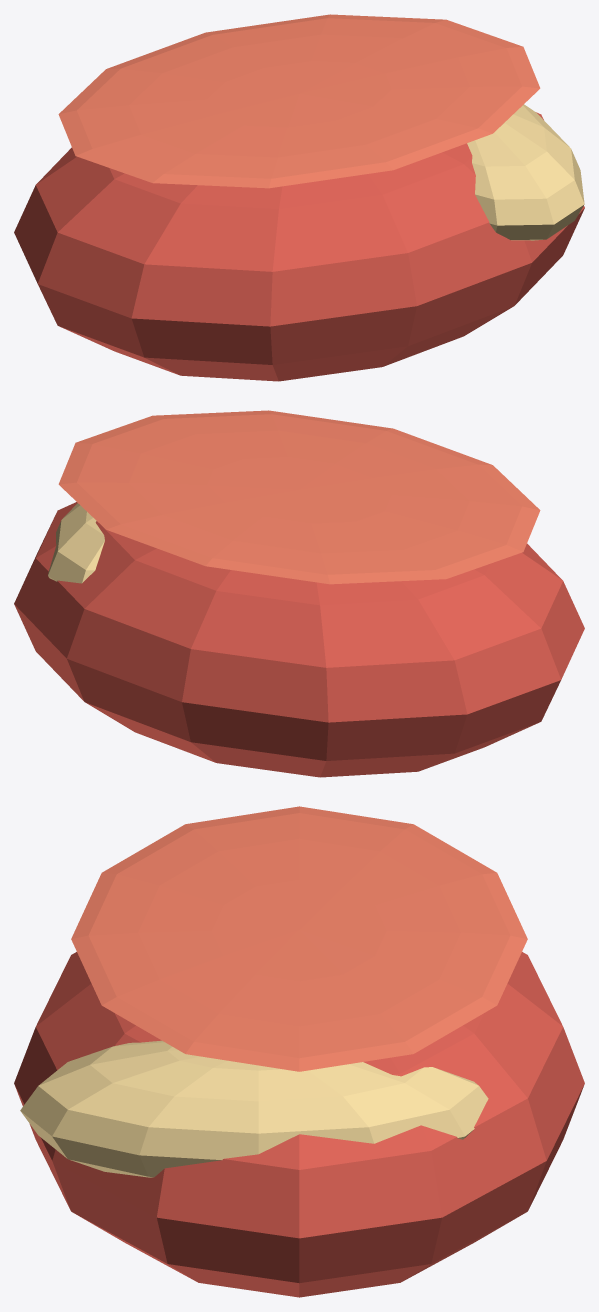
Rendered from ING_HornboarMeat_V1.glb.
3 renders of one model, top to bottom at view 1: azimuth 30°, elevation 25°; view 2: azimuth 150°, elevation 25°; view 3: azimuth 270°, elevation 25°, orthographic. The views are drawn at different scales.
Visible parts, largest first — view 1: Meat, CutFace, FatCap; view 2: Meat, CutFace, FatCap; view 3: CutFace, Meat, FatCap.
Part boxes in pixels (x1=…): Meat: x1=14, y1=112, x2=584, y2=381; CutFace: x1=58, y1=14, x2=540, y2=188; FatCap: x1=467, y1=104, x2=584, y2=240; Meat: x1=14, y1=502, x2=584, y2=777; CutFace: x1=58, y1=410, x2=540, y2=584; FatCap: x1=48, y1=503, x2=104, y2=583; CutFace: x1=71, y1=806, x2=527, y2=1071; Meat: x1=14, y1=952, x2=584, y2=1297; FatCap: x1=20, y1=1040, x2=488, y2=1177.
Bounding box in the file's own units: 1.8 × 0.815 × 1.4.
